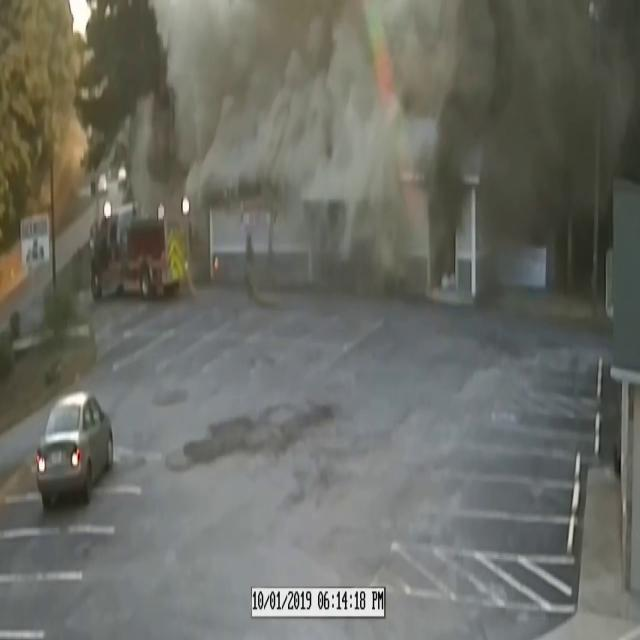Smoke: (128, 0, 640, 312)
